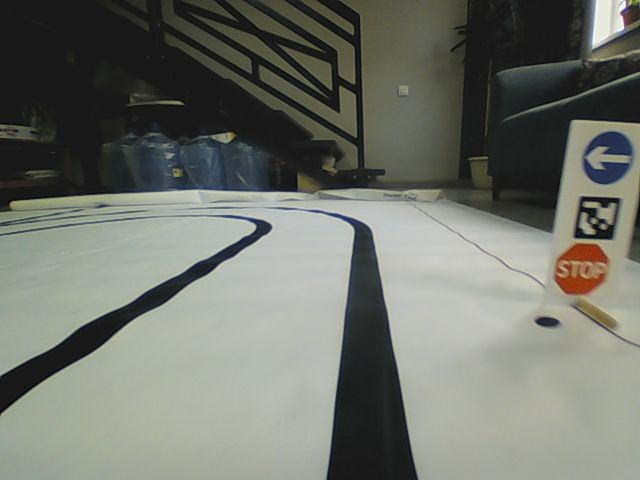Stop: (553, 243, 609, 296)
